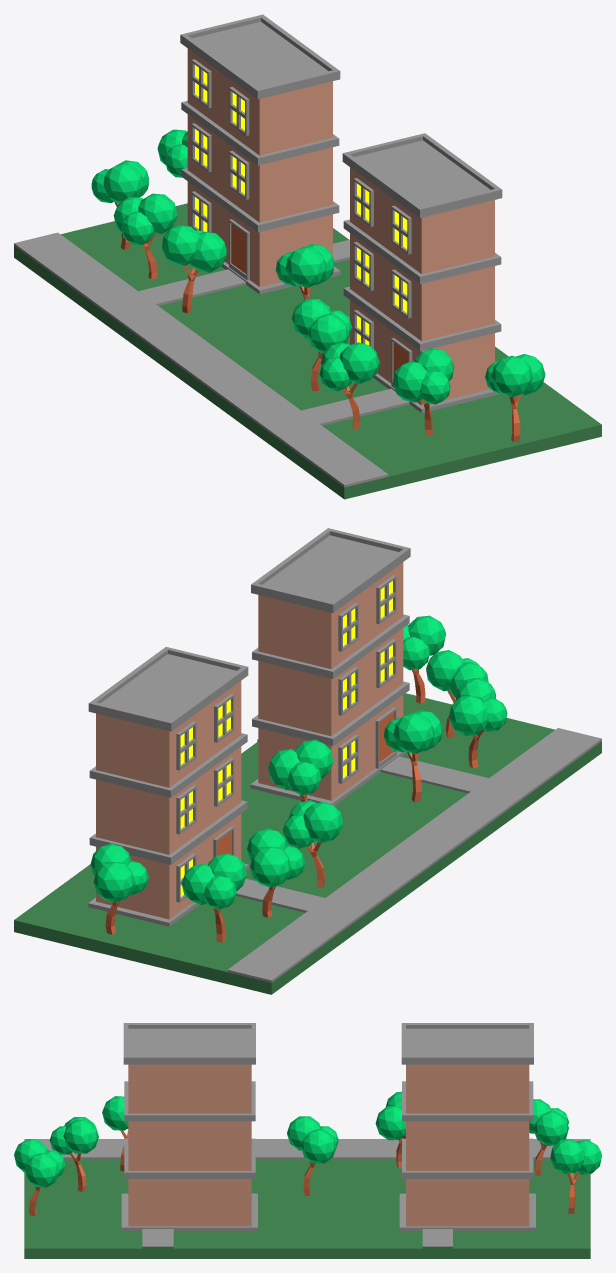
The model's file is 2_thirds.fbx.
3 renders of one model, top to bottom at view 1: azimuth 30°, elevation 25°; view 2: azimuth 150°, elevation 25°; view 3: azimuth 270°, elevation 25°, orthographic. The views are drawn at different scales.
Parts seen in each view (by area): view 1: Cube, Cube.001, Cube.002, Icosphere.022, Icosphere.001, Icosphere.019, Icosphere.028, Icosphere.007, Icosphere.005, Icosphere.010, Icosphere.008, Icosphere.026 (+5 smaller); view 2: Cube, Cube.002, Cube.001, Icosphere.014, Icosphere.011, Icosphere.004, Icosphere.029, Icosphere.007, Icosphere.025, Icosphere.022, Icosphere.020, Icosphere.001 (+11 smaller); view 3: Cube, Cube.002, Cube.001, Icosphere.025, Icosphere.013, Icosphere.002, Icosphere.023, Icosphere.020, Icosphere.008, Icosphere.028, Icosphere.001, Icosphere.022 (+3 smaller).
Part boxes in pixels (<box>): Cube: <box>14,203,601,499</box>; Cube.001: <box>180,14,340,294</box>; Cube.002: <box>342,133,502,412</box>; Icosphere.022: <box>491,355,532,396</box>; Icosphere.001: <box>286,246,326,287</box>; Icosphere.019: <box>103,163,143,202</box>; Icosphere.028: <box>339,342,379,383</box>; Icosphere.007: <box>162,225,199,265</box>; Icosphere.005: <box>307,314,349,353</box>; Icosphere.010: <box>138,193,177,234</box>; Icosphere.008: <box>190,231,226,272</box>; Icosphere.026: <box>392,361,427,402</box>; Cube: <box>14,693,601,994</box>; Cube.002: <box>250,528,410,805</box>; Cube.001: <box>88,647,248,926</box>; Icosphere.014: <box>93,861,134,902</box>; Icosphere.011: <box>250,846,290,887</box>; Icosphere.004: <box>393,712,434,753</box>; Icosphere.029: <box>449,695,487,735</box>; Icosphere.007: <box>303,801,342,842</box>; Icosphere.025: <box>426,650,465,691</box>; Icosphere.022: <box>408,615,445,655</box>; Icosphere.020: <box>181,863,214,904</box>; Icosphere.001: <box>295,739,333,778</box>; Cube: <box>24,1139,590,1258</box>; Cube.002: <box>121,1023,257,1230</box>; Cube.001: <box>399,1023,535,1230</box>; Icosphere.025: <box>63,1119,98,1153</box>; Icosphere.013: <box>550,1139,584,1173</box>; Icosphere.002: <box>301,1129,336,1163</box>; Icosphere.023: <box>24,1153,59,1187</box>; Icosphere.020: <box>533,1111,568,1145</box>; Icosphere.008: <box>375,1106,405,1140</box>; Icosphere.028: <box>102,1096,128,1130</box>; Icosphere.001: <box>287,1116,320,1150</box>; Icosphere.022: <box>14,1139,47,1172</box>.
Size of the model in its own units: 4500 by 3585 by 10384.
